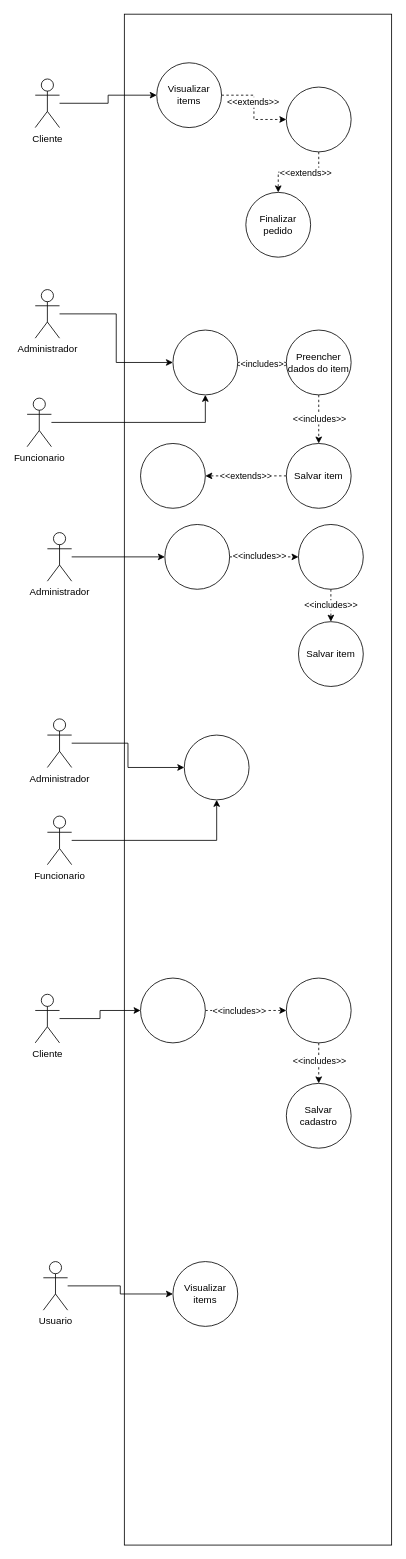
This 406x1559 diagram has some shape labels left out. Each missing label, with the box of its shape:
Cadastrar empregado: (164, 524, 230, 589)
Cadastrar item: (172, 329, 238, 395)
Mensagem de erro: (140, 443, 205, 508)
Preencher dados: (286, 977, 351, 1043)
Preencher dados do empregado: (298, 524, 363, 589)
Se cadastrar como cliente: (140, 977, 205, 1043)
Selecionar items: (286, 86, 351, 152)
Visualizar pedidos: (183, 734, 249, 800)
